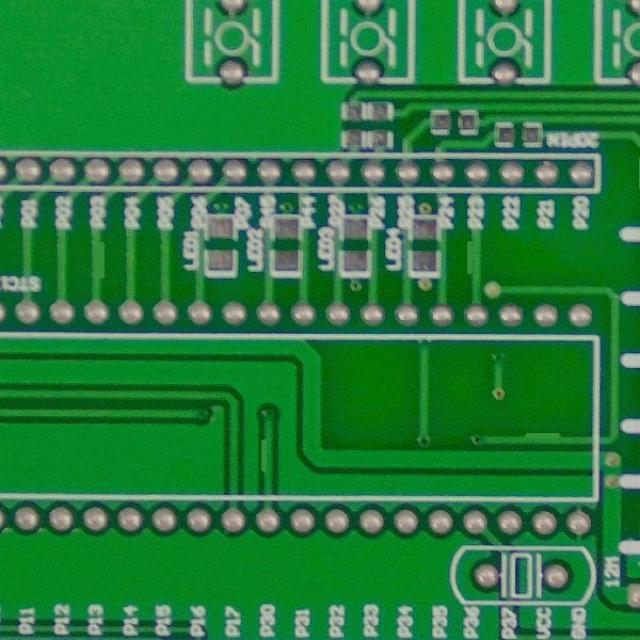Spur: (459, 238, 488, 278), (86, 236, 109, 286), (519, 428, 567, 446), (259, 436, 277, 474)
